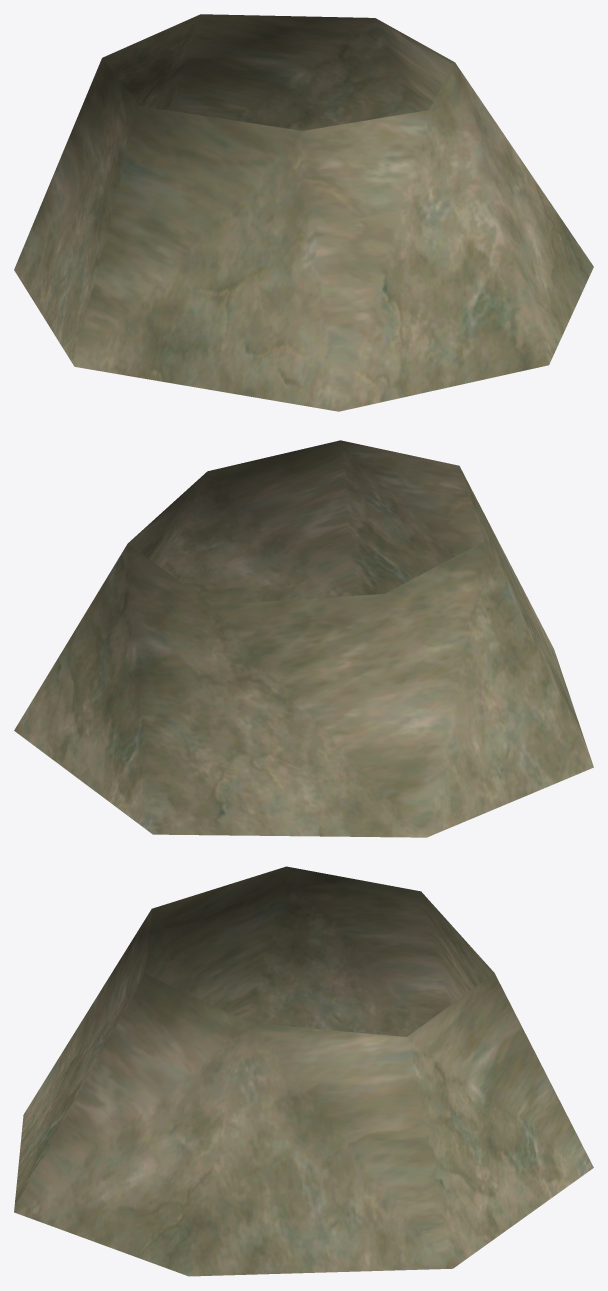
Rendered from EKH_JAIL_PS_JA_GR_OBJECT58.fbx.
3 renders of one model, top to bottom at view 1: azimuth 30°, elevation 25°; view 2: azimuth 150°, elevation 25°; view 3: azimuth 270°, elevation 25°, orthographic. The views are drawn at different scales.
Visible parts, largest first — view 1: EKH_JAIL_PS_JA_GR_OBJECT58; view 2: EKH_JAIL_PS_JA_GR_OBJECT58; view 3: EKH_JAIL_PS_JA_GR_OBJECT58.
Boxes of the visible parts, box(x1,y1,x2,y2) form: EKH_JAIL_PS_JA_GR_OBJECT58: box(14, 14, 593, 411); EKH_JAIL_PS_JA_GR_OBJECT58: box(14, 440, 593, 837); EKH_JAIL_PS_JA_GR_OBJECT58: box(14, 866, 593, 1276).
Size of the model in its own units: 25192 by 11031 by 26356.
1 material, 1 textured.
